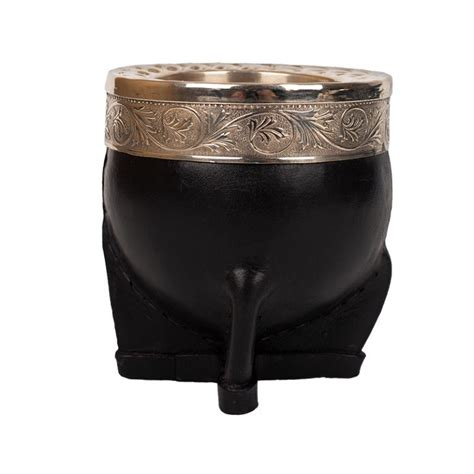cuero: (96, 146, 394, 415)
